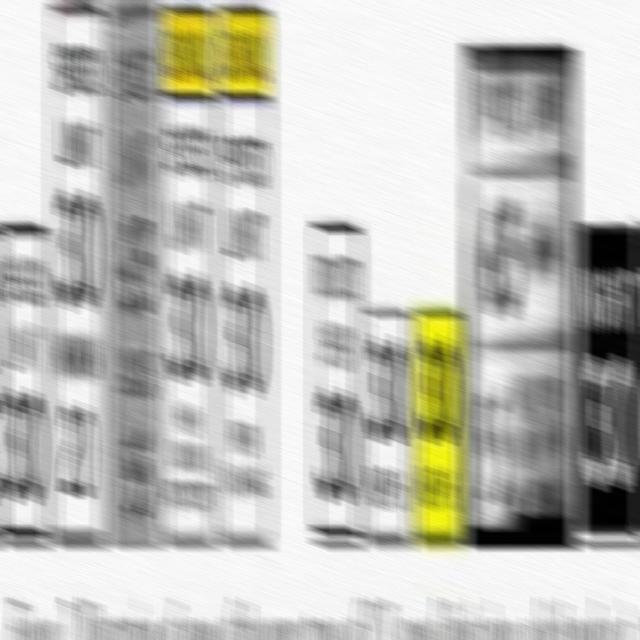speedLimit30: (48, 2, 106, 535), (215, 2, 272, 423), (162, 6, 212, 392), (0, 223, 49, 541), (311, 217, 359, 534), (414, 306, 463, 538), (364, 319, 412, 532)
speedLimit65: (106, 2, 163, 550)
